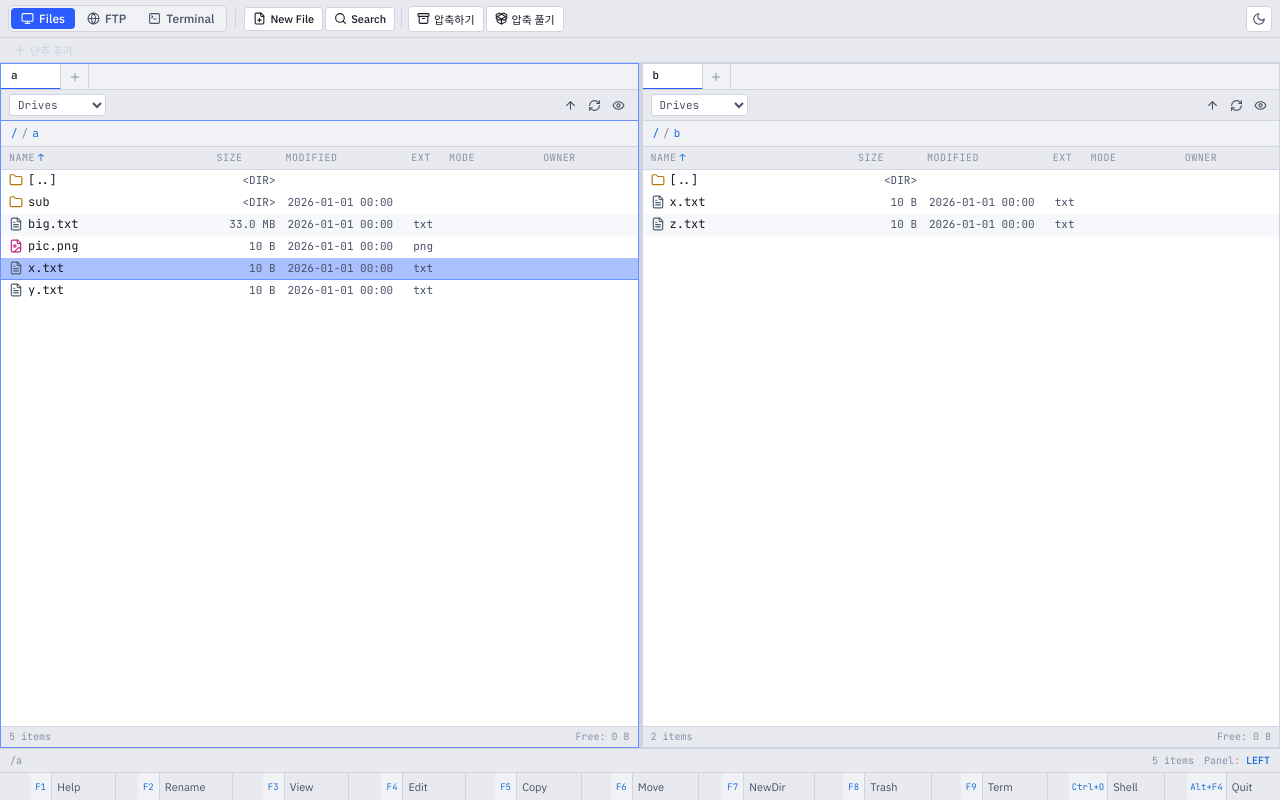
App 커버리지 — 복사/이동 충돌 › AP-09: F5 충돌 → "덮어쓰기" → CopyItems
This screenshot has width=1280, height=800.
Expected: the text "y.txt" is shown, [28,282,64,299]
Press F5
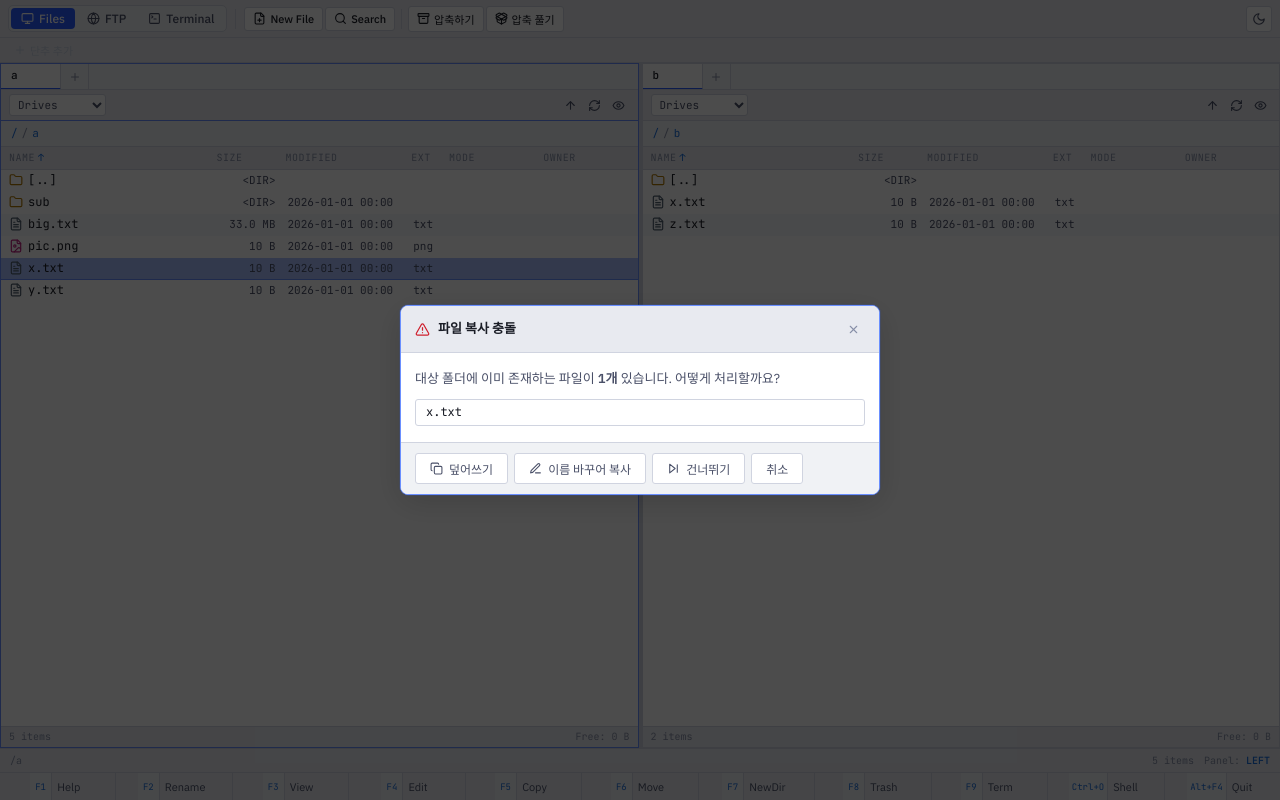
Now the text "파일 복사 충돌" is shown, box [438,320,516,338]
Click the button "덮어쓰기".
click(462, 468)  # box [415,453,508,484]
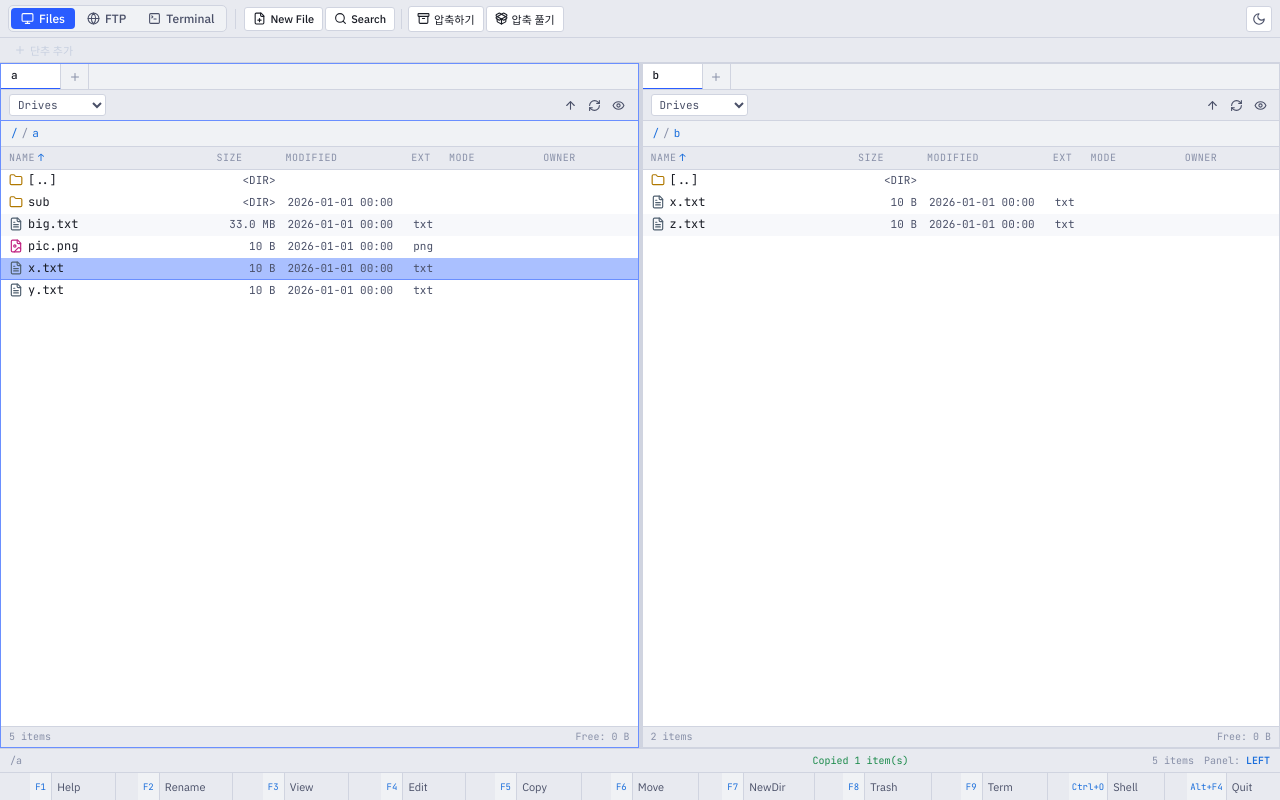
Now the text "파일 복사 충돌" is gone
